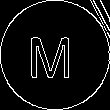M_N: (32, 30, 78, 80)
